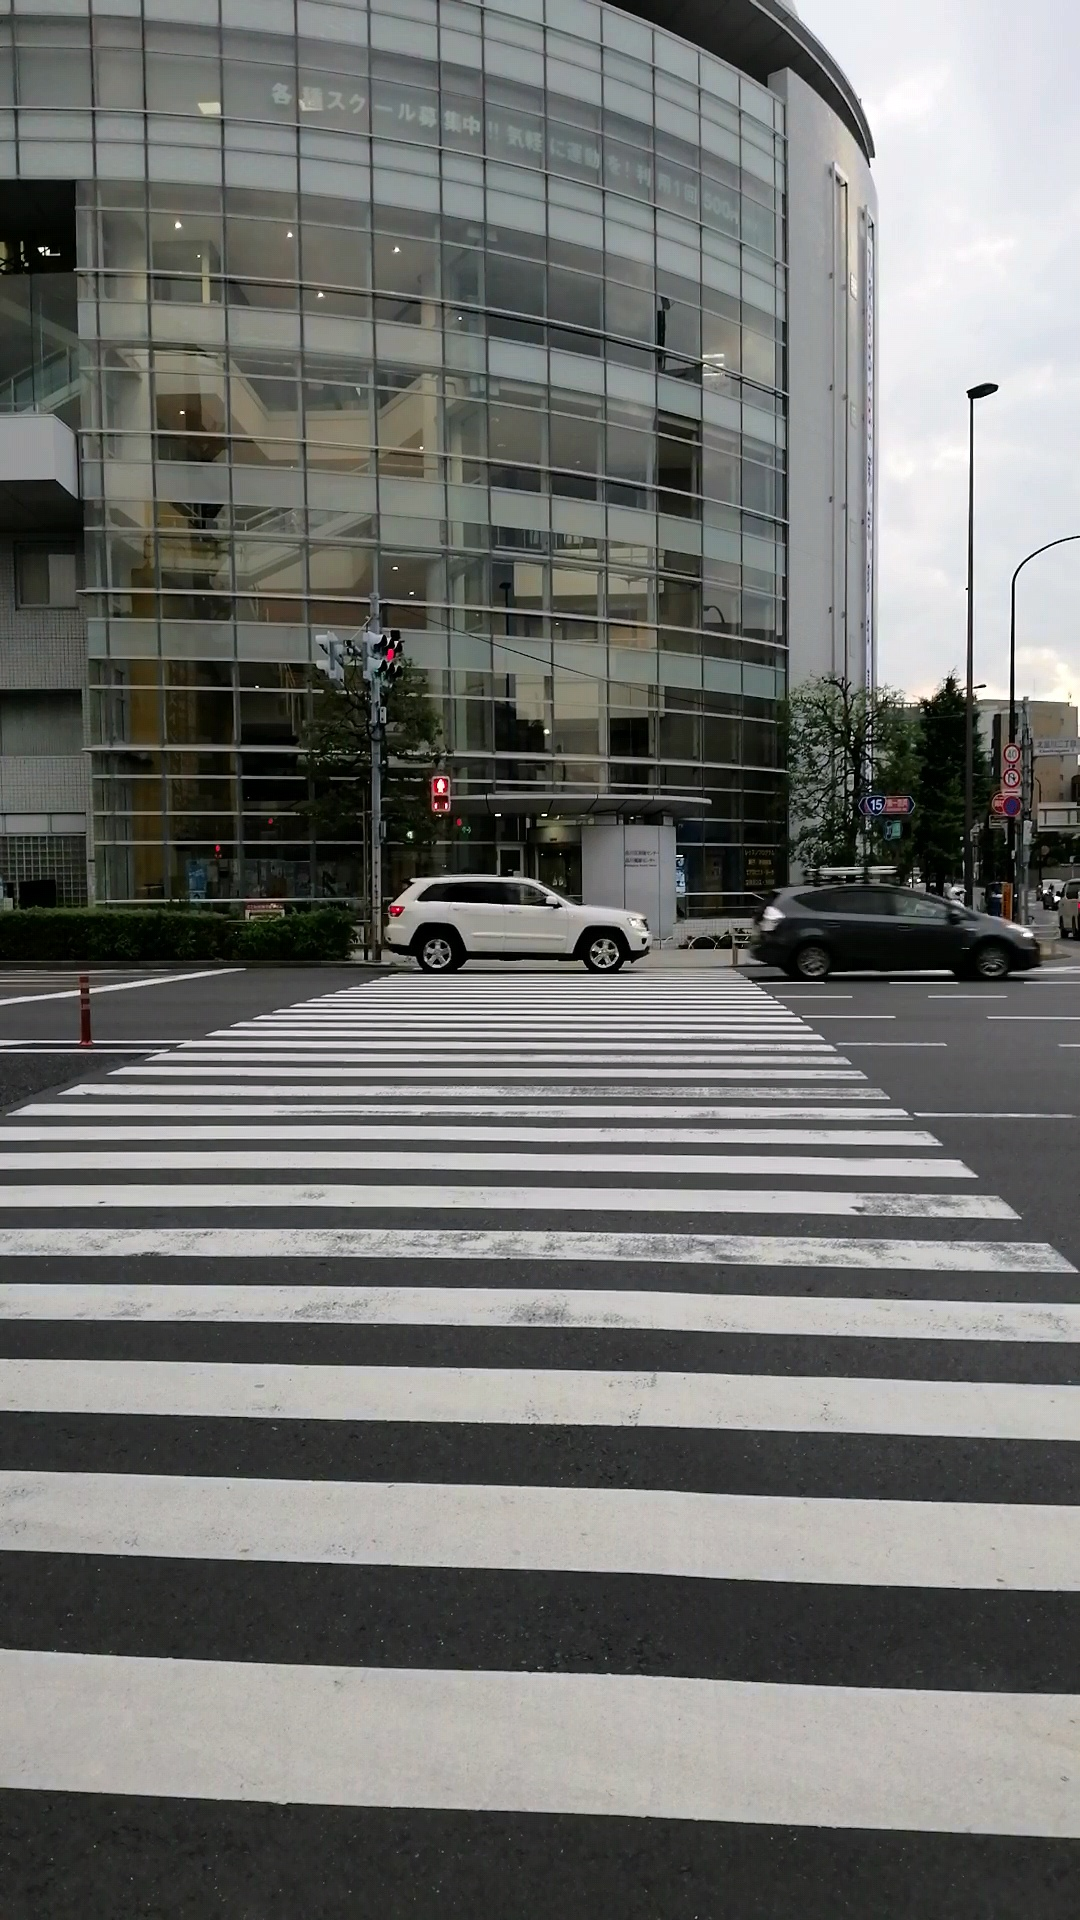red: (431, 775, 450, 814)
